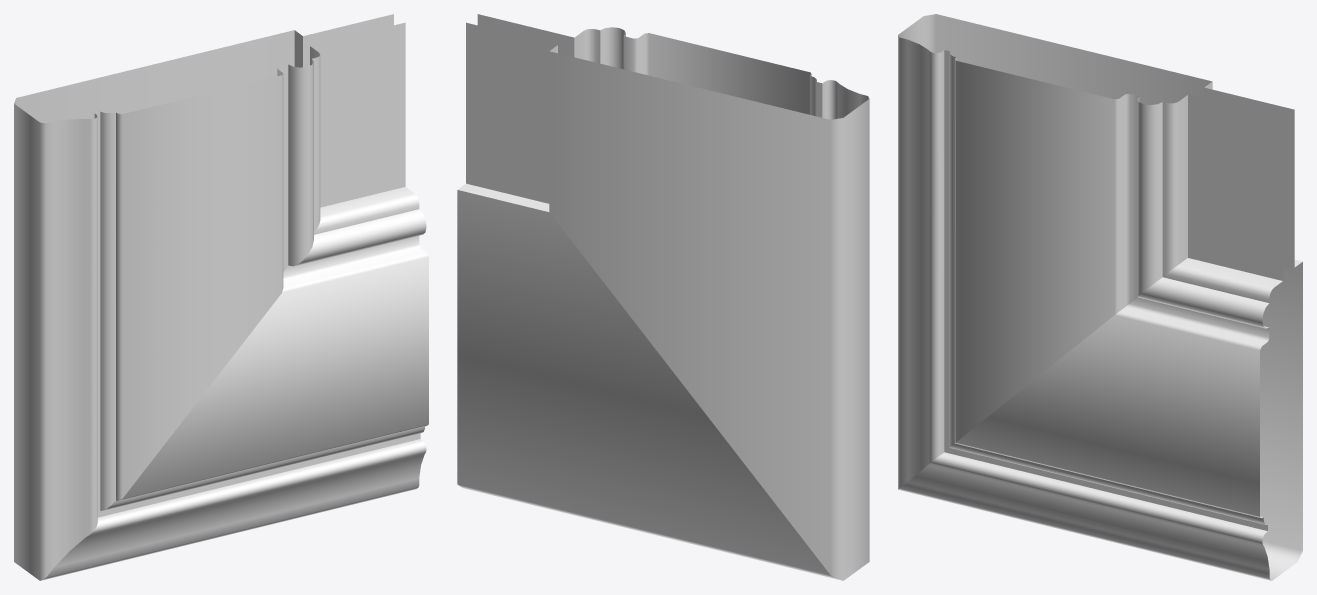
File: original-50.obj
The picture shows the model from 3 angles, left to right: view 1: azimuth 30°, elevation 25°; view 2: azimuth 150°, elevation 25°; view 3: azimuth 330°, elevation 25°; orthographic projection.
Parts seen in each view (by area): view 1: RT_11_BL1/RT_11_BL/mesh36/mesh36-geometry#mesh36-geometry; view 2: RT_11_BL1/RT_11_BL/mesh36/mesh36-geometry#mesh36-geometry; view 3: RT_11_BL1/RT_11_BL/mesh36/mesh36-geometry#mesh36-geometry.
Boxes of the visible parts, bbox=[...] form: RT_11_BL1/RT_11_BL/mesh36/mesh36-geometry#mesh36-geometry: bbox=[14, 14, 428, 580]; RT_11_BL1/RT_11_BL/mesh36/mesh36-geometry#mesh36-geometry: bbox=[457, 14, 869, 580]; RT_11_BL1/RT_11_BL/mesh36/mesh36-geometry#mesh36-geometry: bbox=[898, 14, 1302, 580].
Size of the model in its own units: 0.1703 by 0.1979 by 0.0338.
